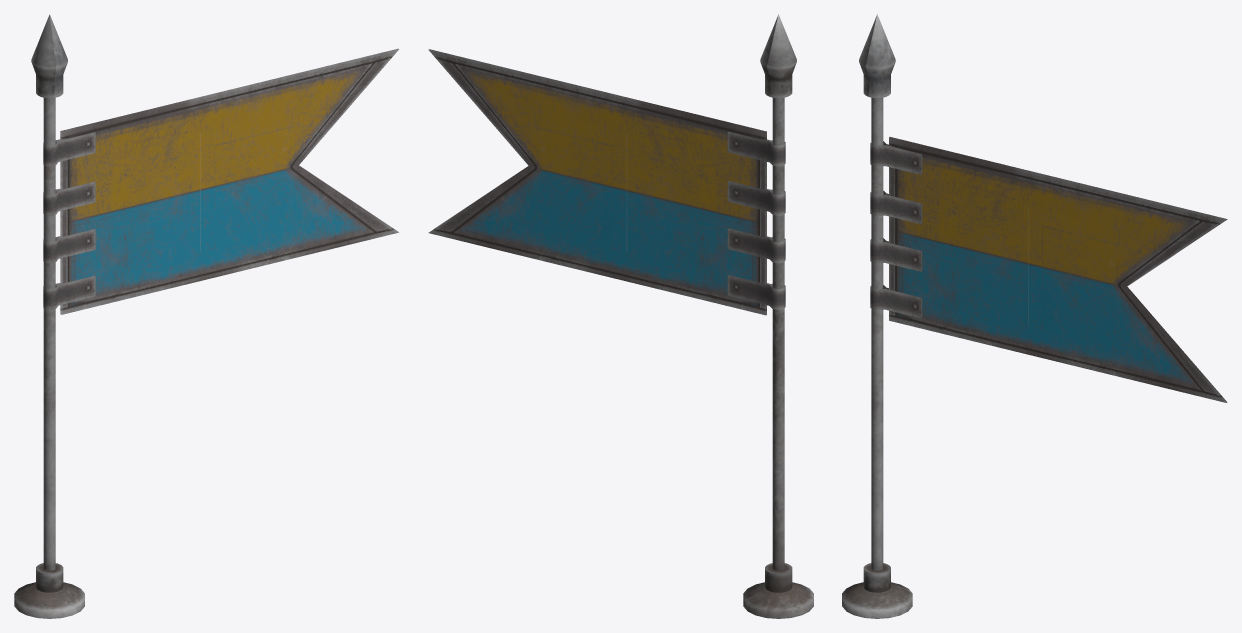
Rendered from SM_Sign05.FBX.
3 views of the same model, side by side, from view 1: azimuth 30°, elevation 25°; view 2: azimuth 150°, elevation 25°; view 3: azimuth 330°, elevation 25° (orthographic).
Parts seen in each view (by area): view 1: SM_Sign05; view 2: SM_Sign05; view 3: SM_Sign05.
Boxes of the visible parts, x1,y1,x2,y2 form: SM_Sign05: (14, 14, 398, 618); SM_Sign05: (428, 14, 813, 618); SM_Sign05: (842, 14, 1227, 618).
Bounding box in the file's own units: 61 × 9.78 × 90.29.
